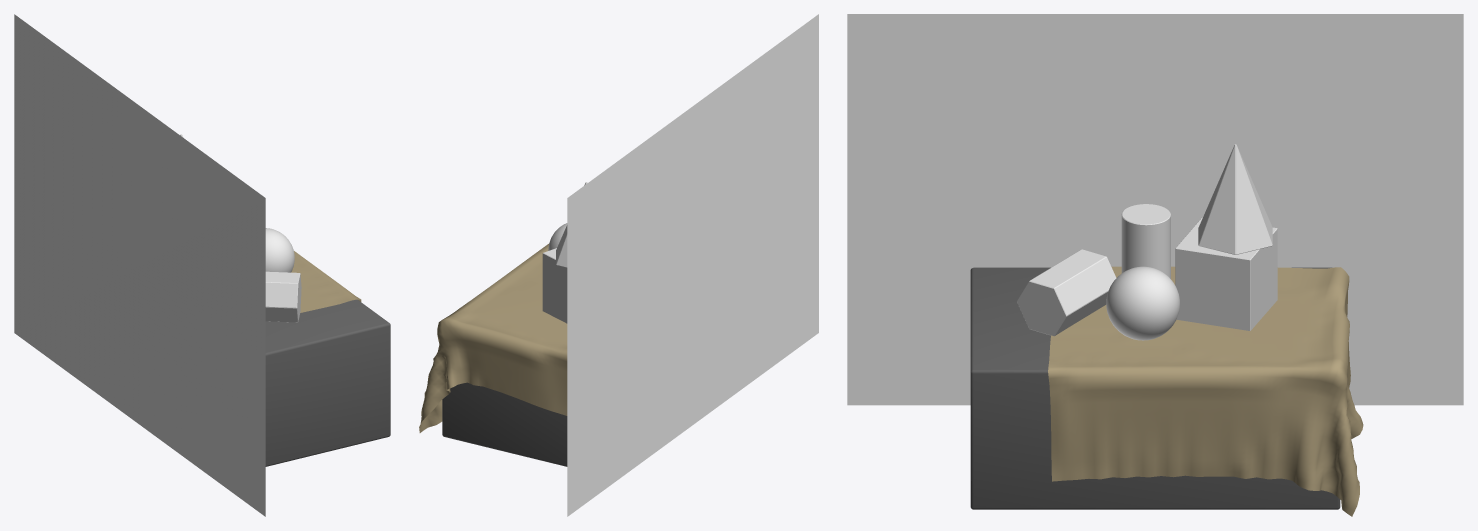
File: shapes.glb
3 renders of one model, left to right at view 1: azimuth 30°, elevation 25°; view 2: azimuth 150°, elevation 25°; view 3: azimuth 270°, elevation 25°, orthographic. The views are drawn at different scales.
Visible parts, largest first — view 1: back, table, cloth, Prism, Sphere; view 2: back, cloth, table, Cube; view 3: back, cloth, table, Cube, Prism, Cone, Sphere, Cylinder.
Part boxes in pixels (x1,y1,x2,y2): back: (14, 14, 265, 516); table: (265, 299, 390, 466); cloth: (291, 251, 361, 312); Prism: (265, 271, 301, 322); Sphere: (265, 228, 294, 272); back: (567, 14, 818, 516); cloth: (419, 243, 567, 432); table: (442, 382, 567, 466); Cube: (542, 248, 567, 323); back: (847, 14, 1463, 405); cloth: (1048, 266, 1363, 516); table: (970, 267, 1340, 509); Cube: (1175, 217, 1277, 330); Prism: (1016, 249, 1116, 336); Cone: (1198, 144, 1272, 254); Sphere: (1106, 266, 1179, 340); Cylinder: (1121, 204, 1170, 278).
Size of the model in its own units: 88.73 by 140 by 200.
